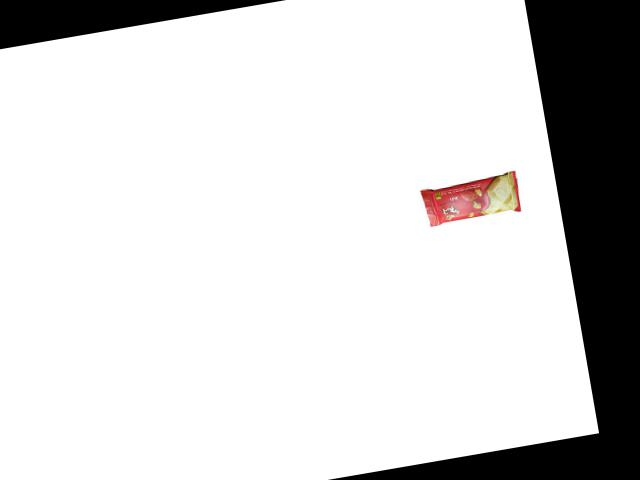chocolate: (412, 164, 522, 231)
